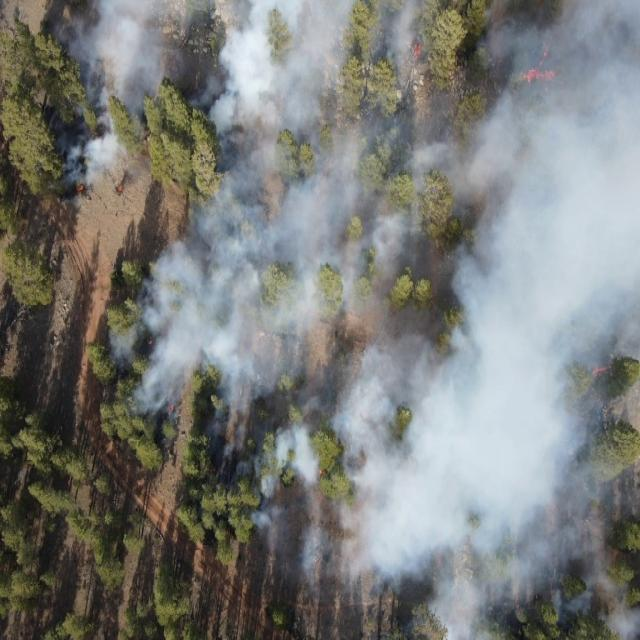fire: (524, 69, 558, 81), (540, 42, 554, 67), (590, 365, 612, 379), (412, 41, 424, 63), (146, 336, 156, 346), (116, 184, 125, 195), (317, 469, 326, 480), (76, 184, 86, 193), (167, 404, 176, 414)
smoke: (469, 1, 640, 610), (54, 0, 442, 198), (184, 200, 469, 398), (258, 400, 470, 612), (108, 238, 184, 428), (204, 398, 257, 524), (442, 72, 468, 198), (407, 611, 502, 640), (597, 611, 640, 640)
